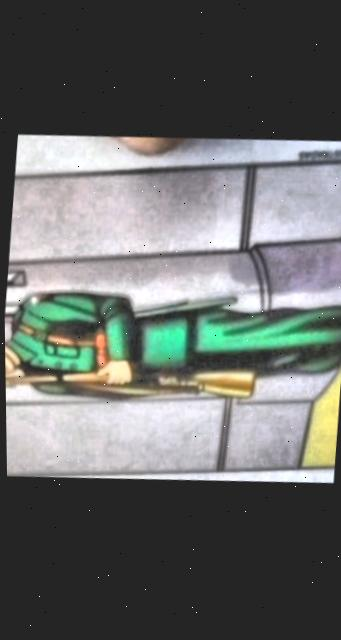El Soldado: (4, 167, 341, 475)
